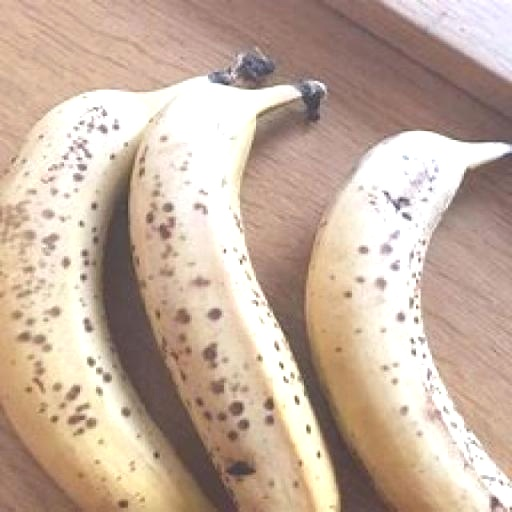fruit: (0, 77, 211, 511), (130, 82, 339, 511), (308, 132, 511, 511)
